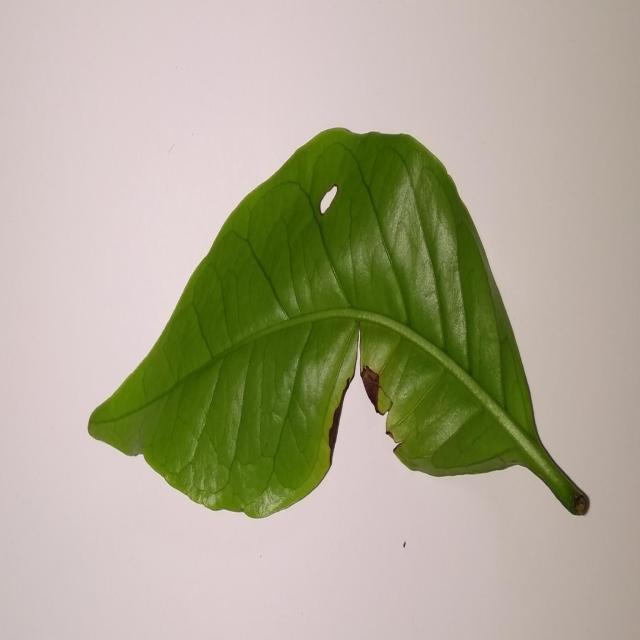Enfermedad-Antracnosis: (86, 127, 590, 522)
